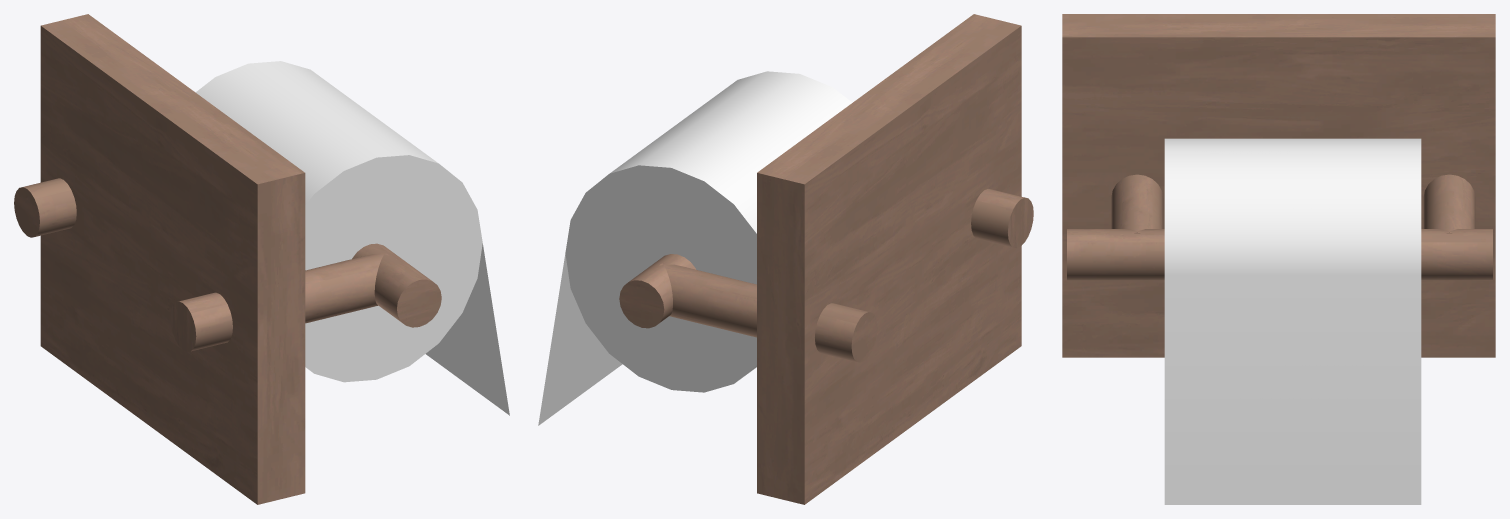
Rendered from animorphs_girl_bedroom_toilet_paper.glb.
3 renders of one model, left to right at view 1: azimuth 30°, elevation 25°; view 2: azimuth 150°, elevation 25°; view 3: azimuth 270°, elevation 25°, orthographic.
Parts seen in each view (by area): view 1: animorphs_girl_bedroom_toilet_paper; view 2: animorphs_girl_bedroom_toilet_paper; view 3: animorphs_girl_bedroom_toilet_paper.
Boxes of the visible parts, box(x1,y1,x2,y2) form: animorphs_girl_bedroom_toilet_paper: box(14, 14, 509, 504); animorphs_girl_bedroom_toilet_paper: box(538, 14, 1033, 504); animorphs_girl_bedroom_toilet_paper: box(1062, 14, 1495, 504).
Bounding box in the file's own units: 0.2208 × 0.2126 × 0.2437.
2 materials, 1 textured.
